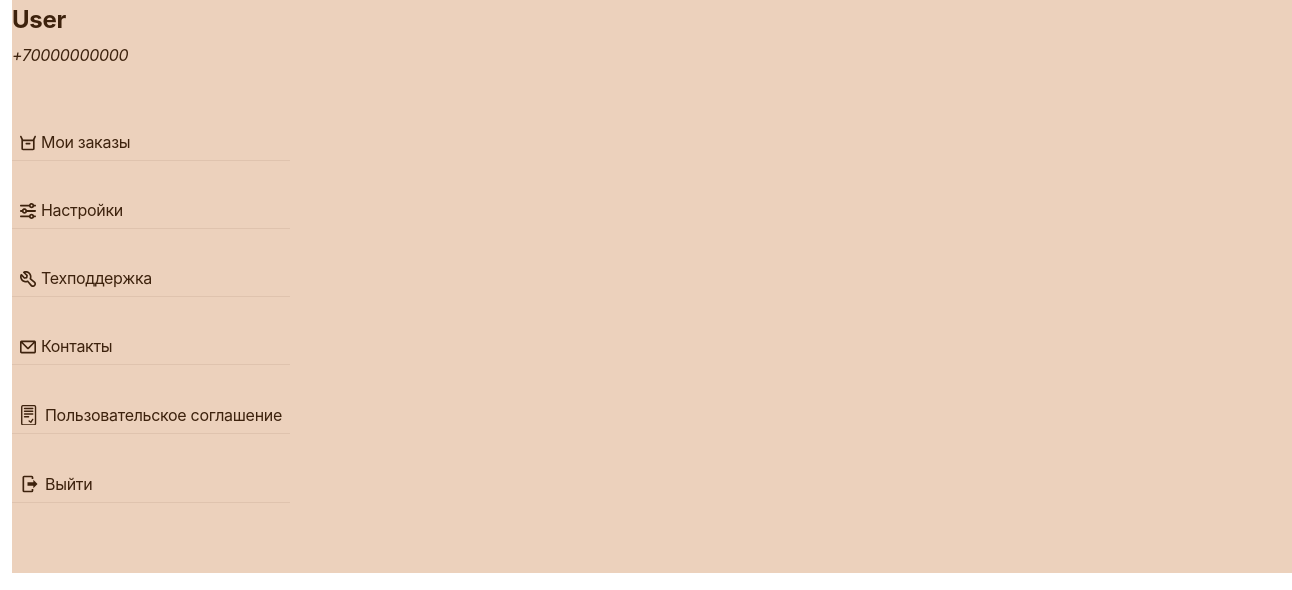
Scenario: Profile › Кнопка Мои заказы показывает заказы пользователя
Click the button "Мои заказы".
click(86, 142)  # box [12,125,290,161]
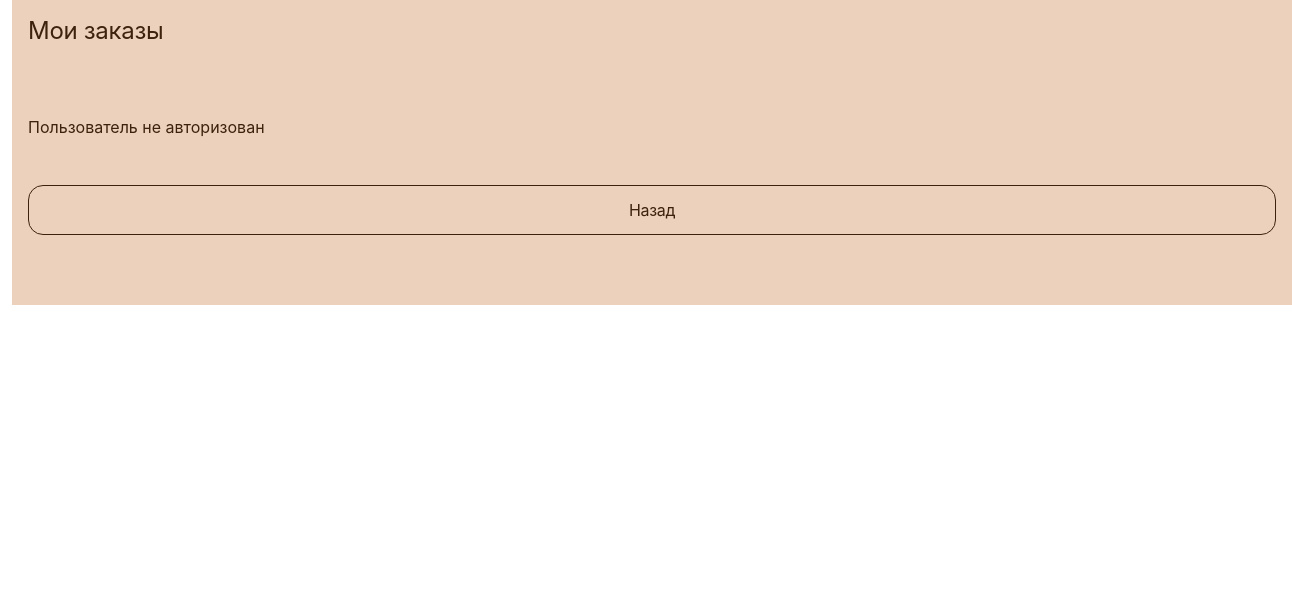
Check: the button "Назад" is shown, box [28,185,1276,235]
Check: the button "Настройки" is gone
